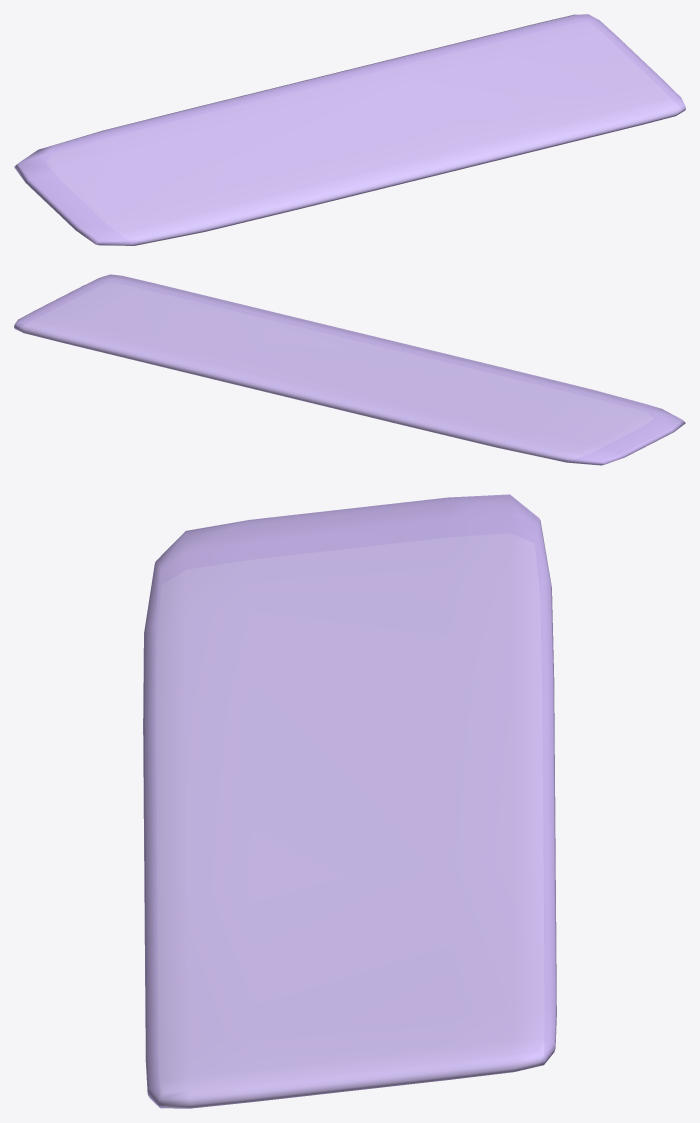
The model's file is techo_galeria.glb.
3 views of the same model, one above another, from view 1: azimuth 30°, elevation 25°; view 2: azimuth 150°, elevation 25°; view 3: azimuth 270°, elevation 25° (orthographic). The views are drawn at different scales.
Parts seen in each view (by area): view 1: techo galeria 1, techo galeria 2; view 2: techo galeria 1, techo galeria 2; view 3: techo galeria 1, techo galeria 2.
Boxes of the visible parts, box(x1,y1,x2,y2) form: techo galeria 1: box(14, 14, 685, 245); techo galeria 2: box(14, 14, 685, 245); techo galeria 1: box(14, 274, 685, 465); techo galeria 2: box(14, 274, 684, 465); techo galeria 1: box(143, 494, 556, 1108); techo galeria 2: box(143, 494, 556, 1108).
Size of what is drawn, in the model's own units: 19.18 by 0.9263 by 5.81.
Materials: 1 (1 with a texture image).
